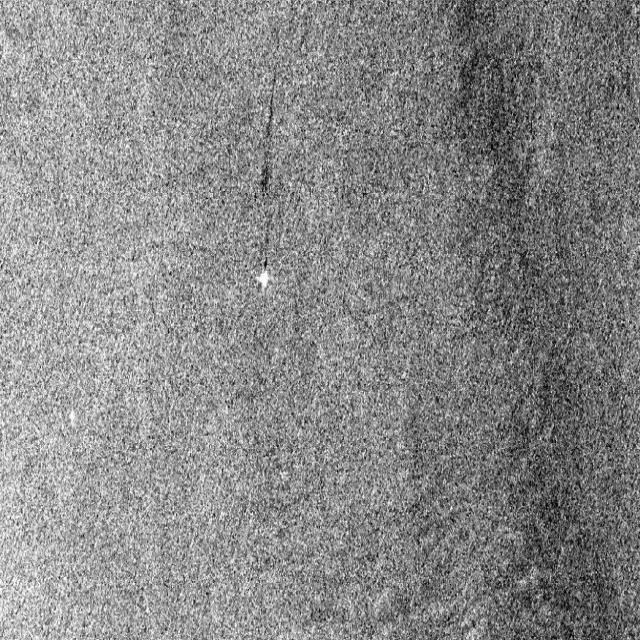look-alike: (498, 330, 608, 638), (451, 4, 529, 213)
oil-spill: (254, 68, 286, 265)
ship: (254, 267, 273, 297), (65, 404, 79, 432)
